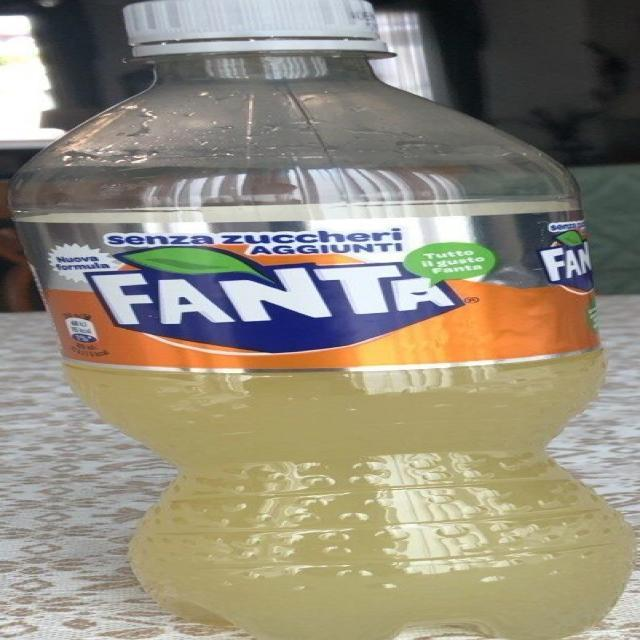Fanta: (9, 2, 640, 638)
